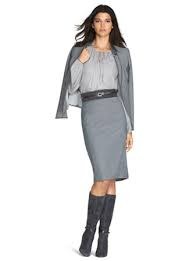F_belt: (73, 87, 125, 105)
